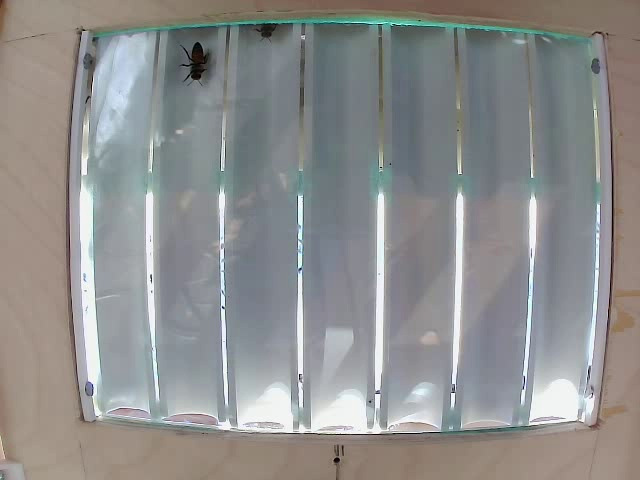bee: (177, 40, 217, 88)
